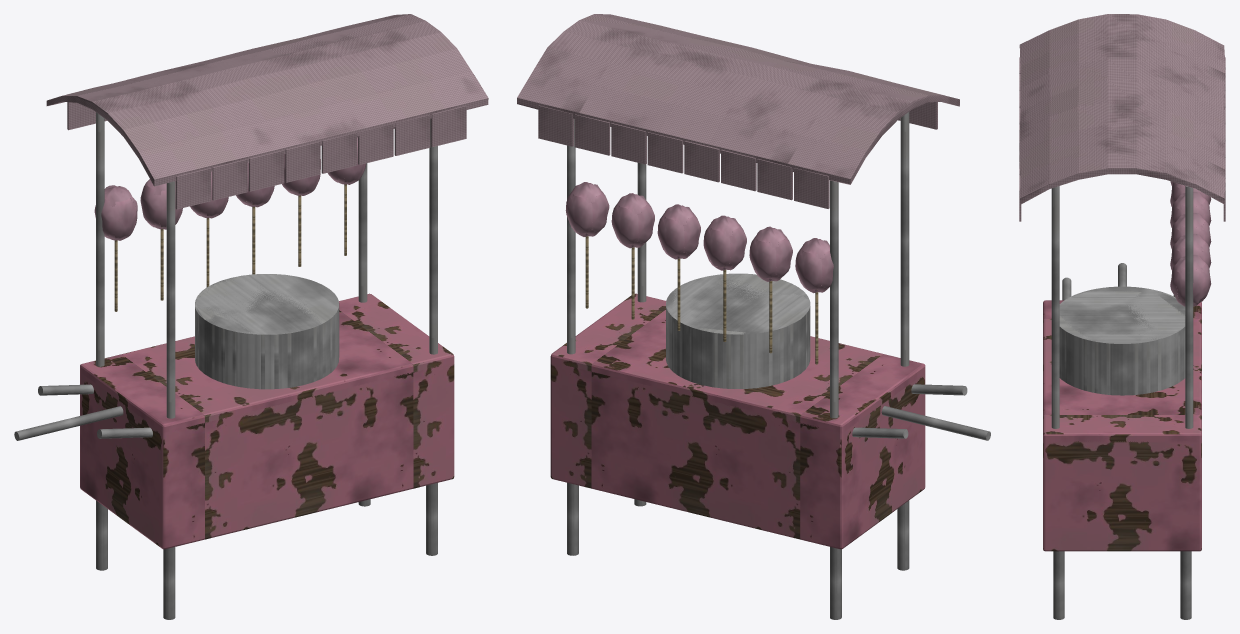
File: C09_CottonCandyStall.glb
3 views of the same model, side by side, from view 1: azimuth 30°, elevation 25°; view 2: azimuth 150°, elevation 25°; view 3: azimuth 270°, elevation 25° (orthographic). The views are drawn at different scales.
Visible parts, largest first — view 1: C09_CottonCandyStall; view 2: C09_CottonCandyStall; view 3: C09_CottonCandyStall.
Boxes of the visible parts, left/top/right/bottom form: C09_CottonCandyStall: left=14, top=14, right=488, bottom=619; C09_CottonCandyStall: left=517, top=14, right=990, bottom=619; C09_CottonCandyStall: left=1019, top=14, right=1225, bottom=619.
Size of the model in its own units: 1.77 by 2 by 0.8032.
Materials: 5 (5 with a texture image).
